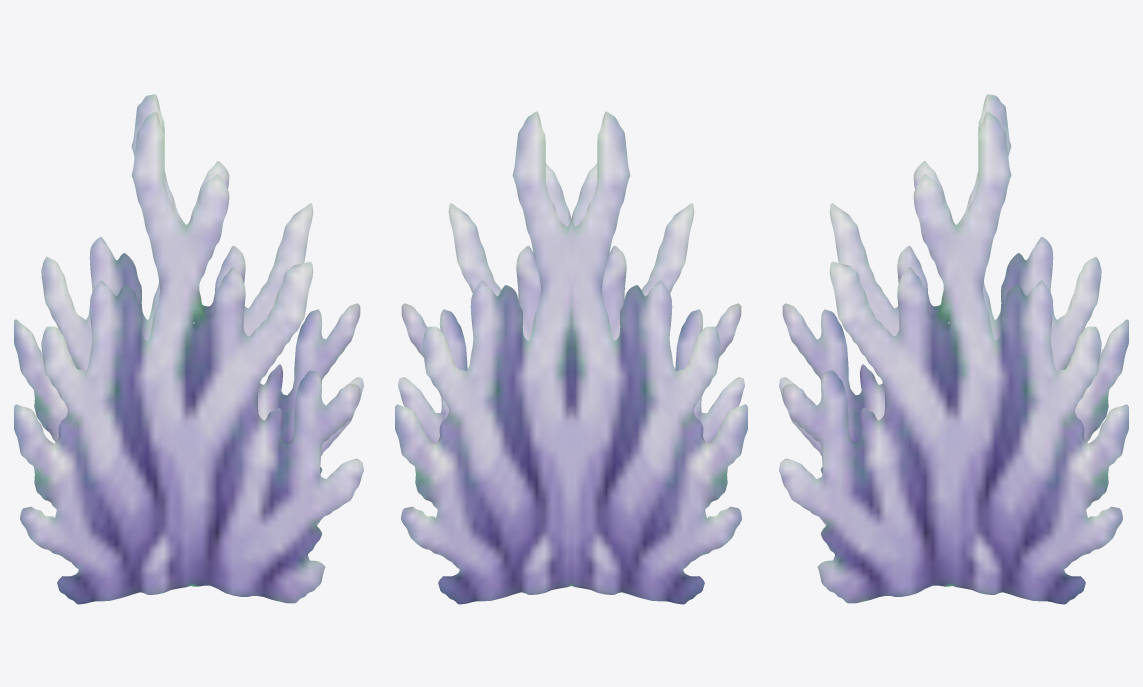
The model's file is h_abimes_touffe.glb.
3 renders of one model, left to right at view 1: azimuth 30°, elevation 25°; view 2: azimuth 150°, elevation 25°; view 3: azimuth 270°, elevation 25°, orthographic.
Parts seen in each view (by area): view 1: h_abimes_touffe; view 2: h_abimes_touffe; view 3: h_abimes_touffe.
Boxes of the visible parts, x1,y1,x2,y2 form: h_abimes_touffe: (14, 94, 363, 604); h_abimes_touffe: (395, 111, 747, 604); h_abimes_touffe: (779, 94, 1128, 604).
Bounding box in the file's own units: 0.2427 × 0.32 × 0.2102.
Materials: 1 (1 with a texture image).
